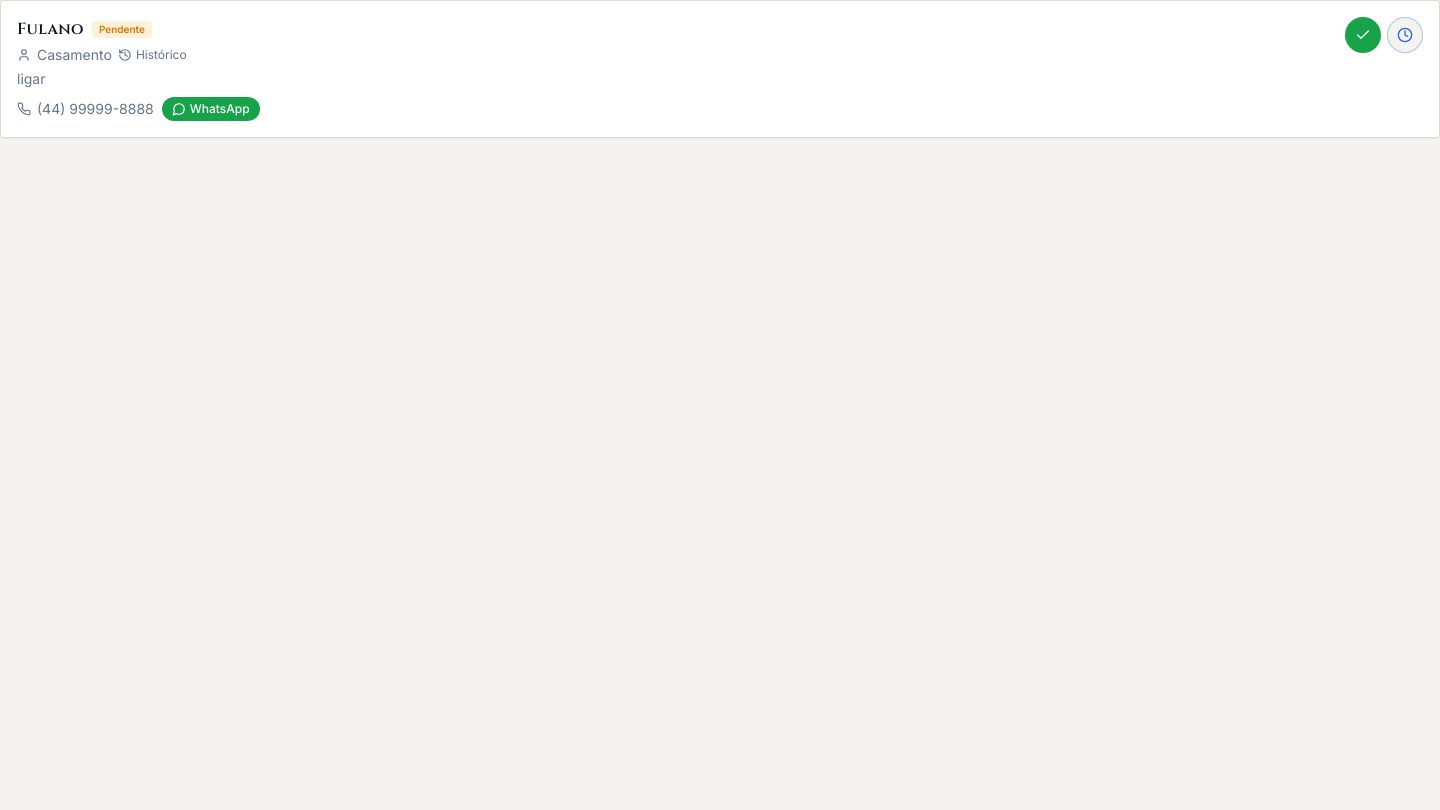
Test: AtividadeCard — exibição › com cliente, o histórico abre em dialog
The width and height of the screenshot is (1440, 810).
Click the button with aria-label "Histórico do cliente" at (152, 55), box [118,47,187,63]
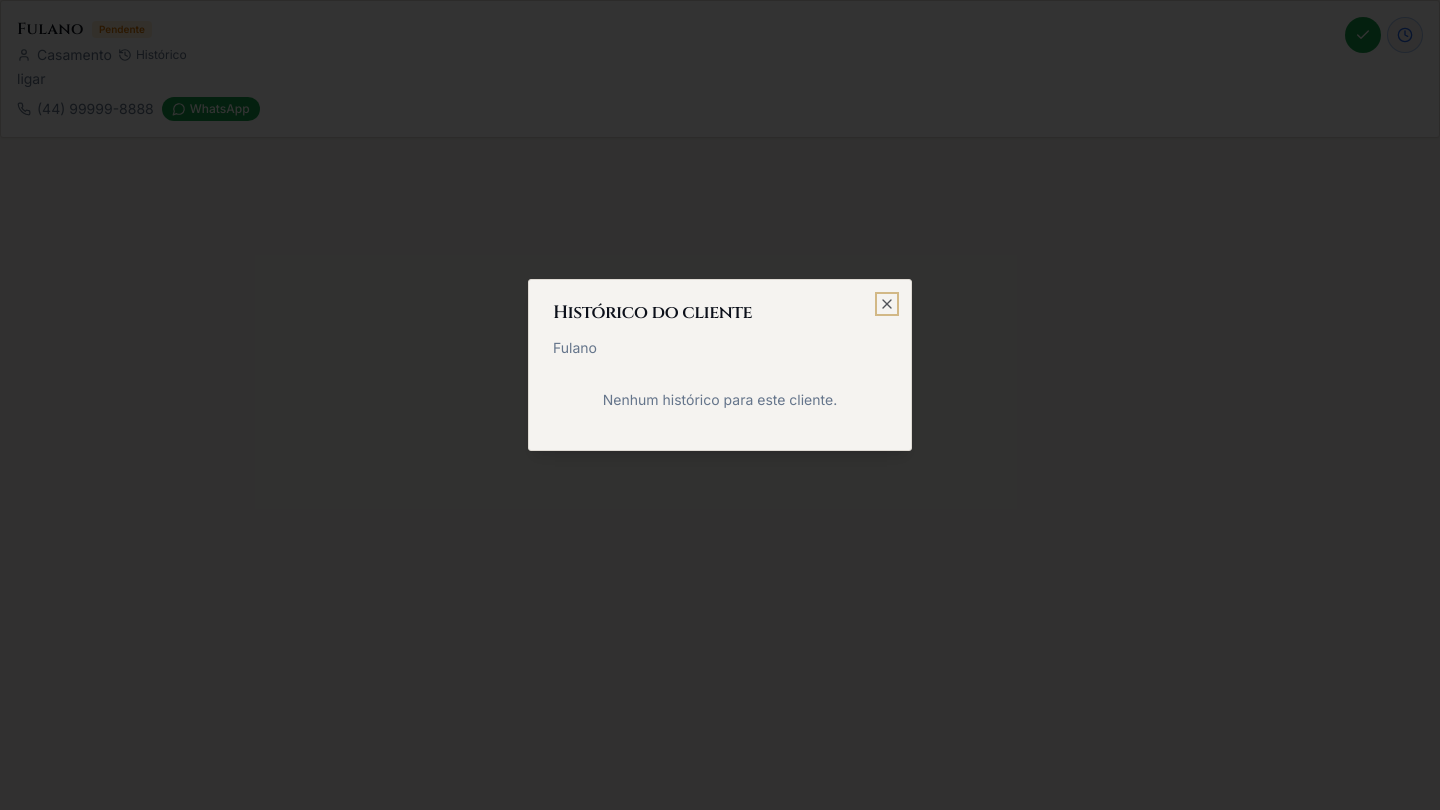
Now the heading "Histórico do cliente" is shown, box [553,300,752,325]
Now the text "Nenhum histórico para este cliente." is shown, box [603,391,837,408]
